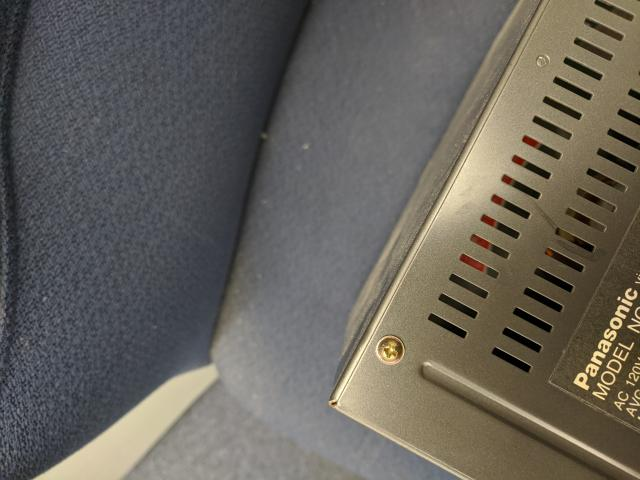CRS: (377, 333, 404, 363)
